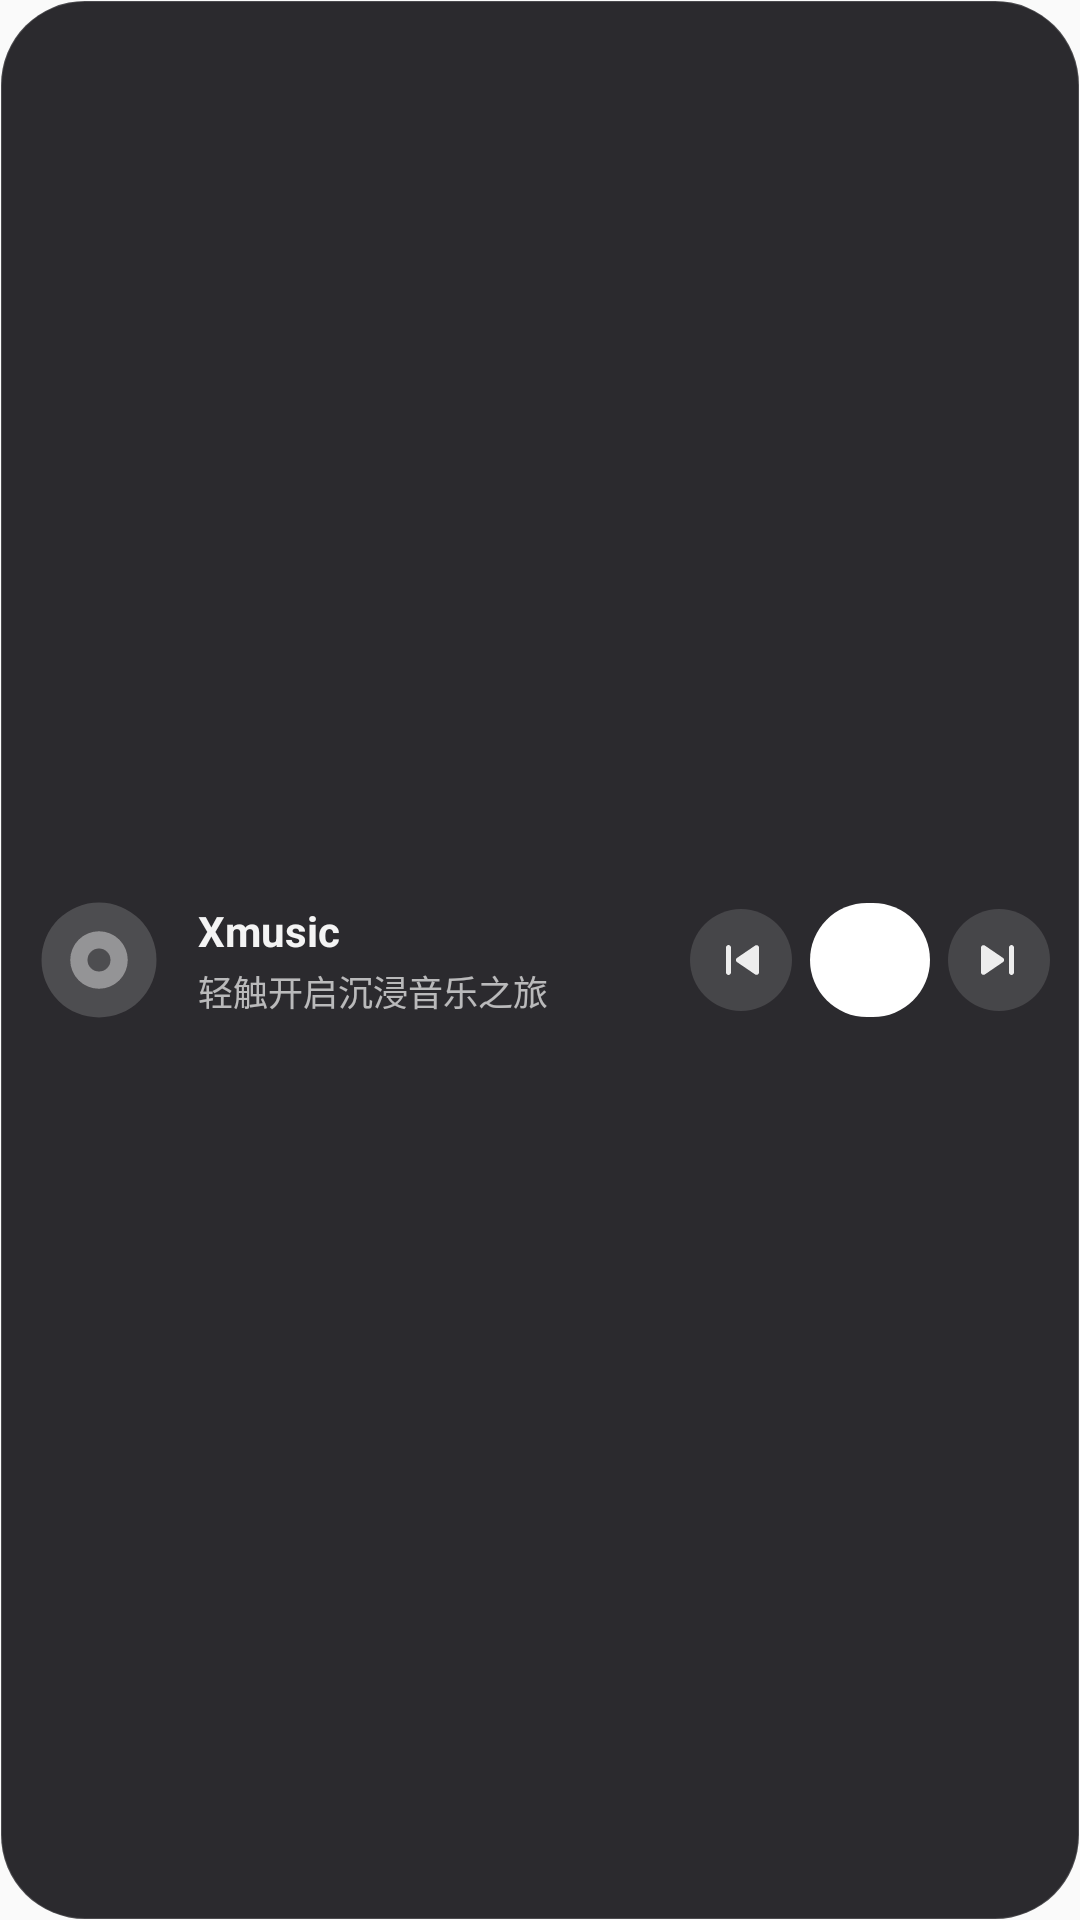

Screen size 1080×1920. Icon name, then its box in pixels as (x1, y1, x2, y2):
Next: (948, 909, 1050, 1011)
Previous: (690, 909, 792, 1011)
widget disc: (42, 903, 156, 1017)
